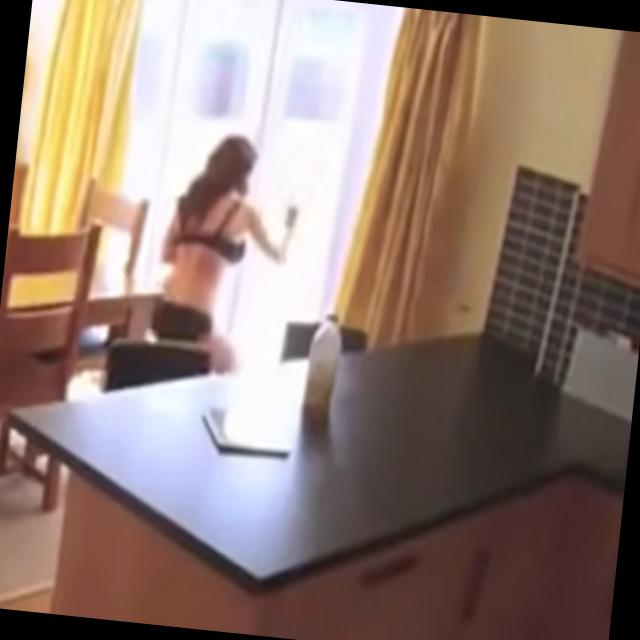person: (144, 127, 302, 382)
